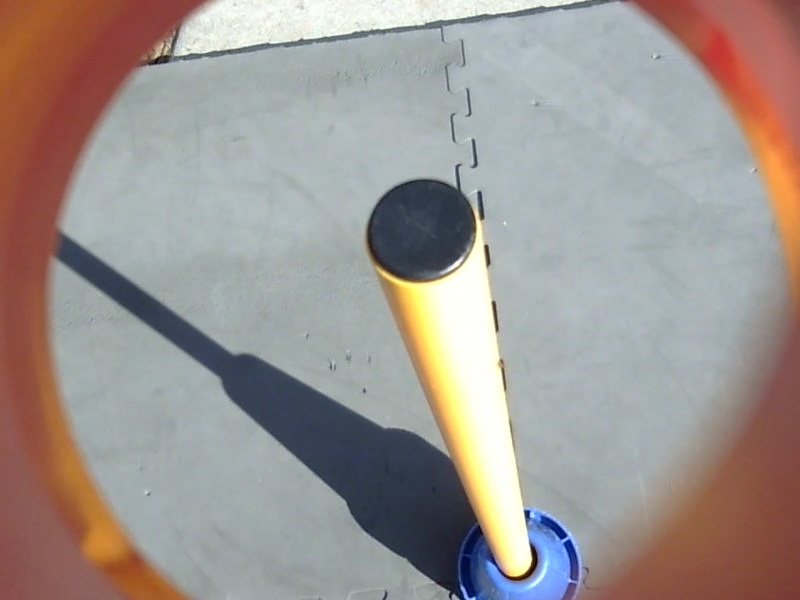tip: (359, 175, 487, 293)
